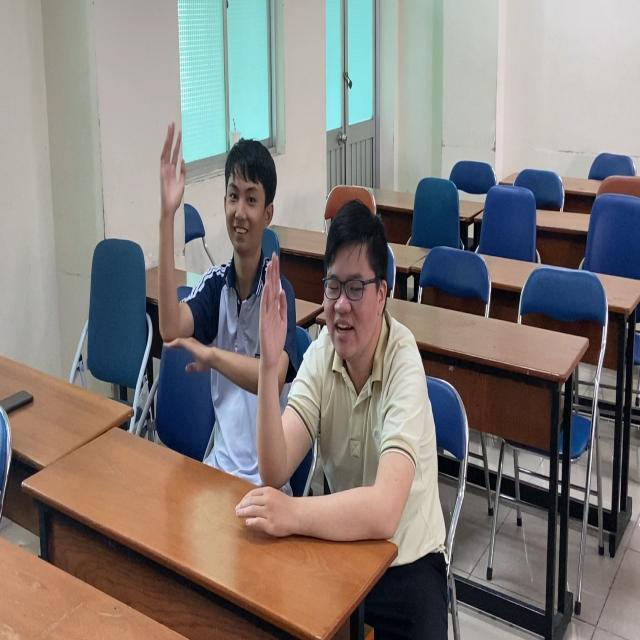raise_hand: (158, 119, 274, 494)
sleep: (255, 201, 423, 546)
